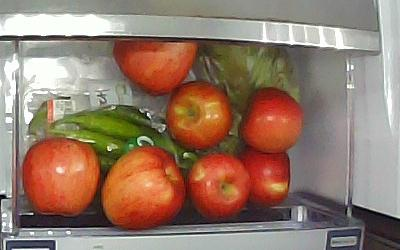apple: (103, 147, 185, 229), (23, 137, 100, 217), (113, 40, 200, 95), (166, 81, 232, 151), (238, 88, 305, 156), (187, 151, 252, 220), (242, 148, 292, 208)
